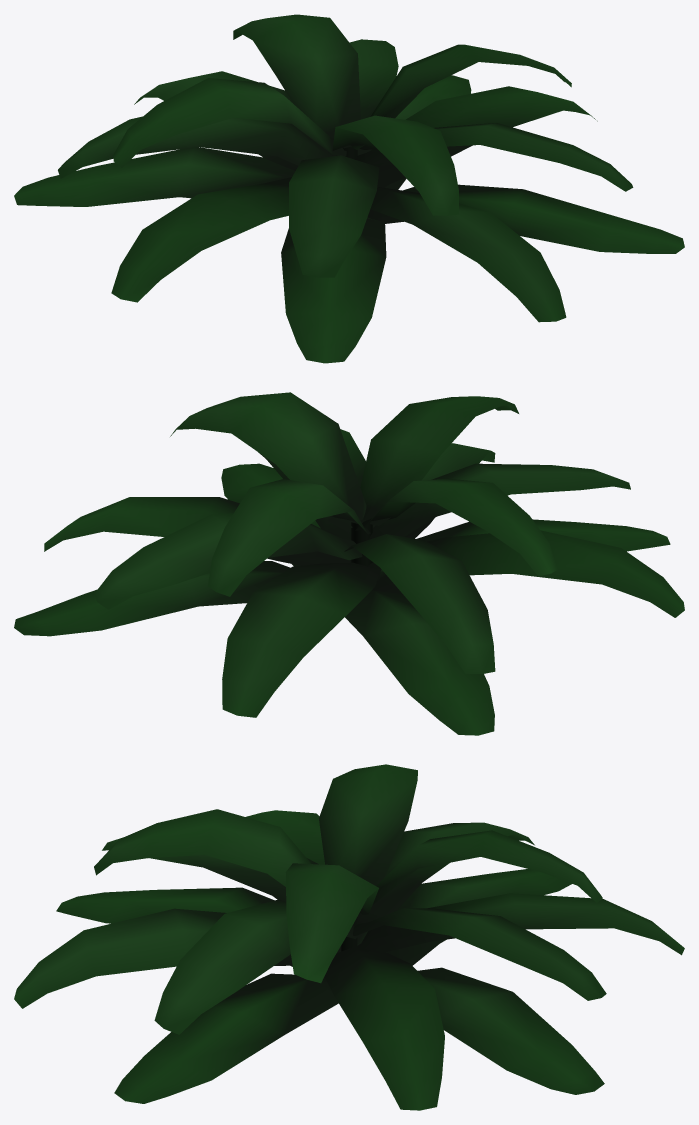
File: Fern_1_v1.7.fbx
3 views of the same model, one above another, from view 1: azimuth 30°, elevation 25°; view 2: azimuth 150°, elevation 25°; view 3: azimuth 270°, elevation 25° (orthographic). The views are drawn at different scales.
Parts seen in each view (by area): view 1: polySurface63; view 2: polySurface63; view 3: polySurface63.
Boxes of the visible parts, x1,y1,x2,y2 form: polySurface63: [14, 14, 684, 363]; polySurface63: [14, 392, 684, 735]; polySurface63: [14, 764, 684, 1110].
Bounding box in the file's own units: 309 × 86.77 × 316.
